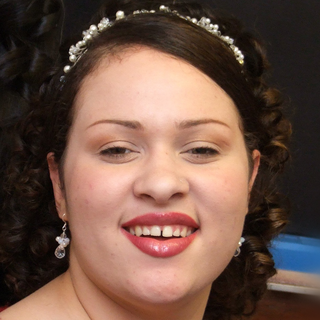eye: (92, 139, 142, 163), (178, 140, 227, 163)
